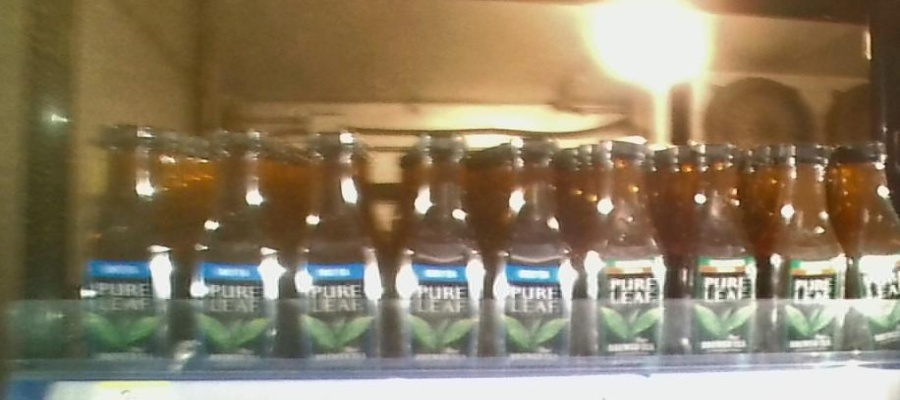bottle: (189, 118, 298, 370), (80, 117, 185, 367), (489, 125, 581, 372), (670, 131, 765, 368), (395, 125, 486, 371), (302, 125, 392, 373), (583, 123, 669, 368), (766, 123, 847, 367), (850, 138, 900, 363)
